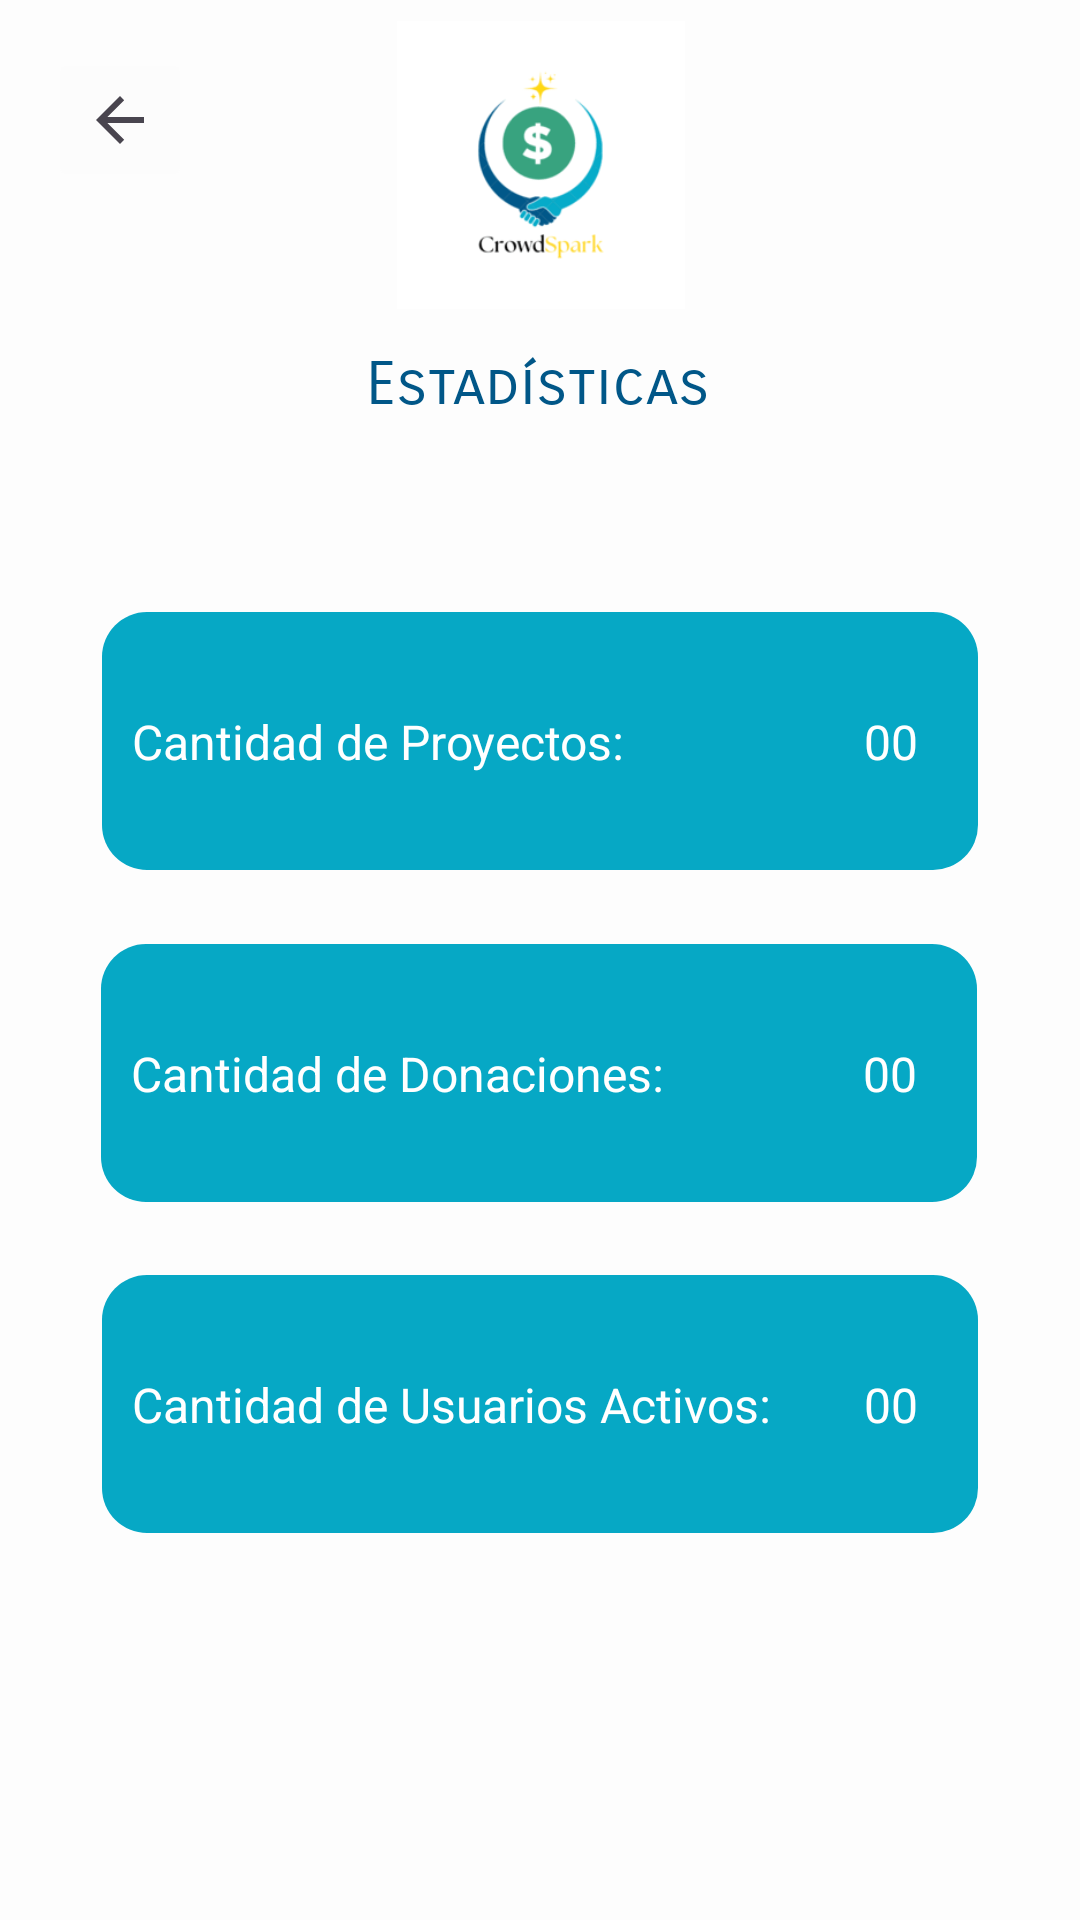

Icon click points for this 1080px×1920px phone screenshot, format [x,y]:
Go back: [120,120]
